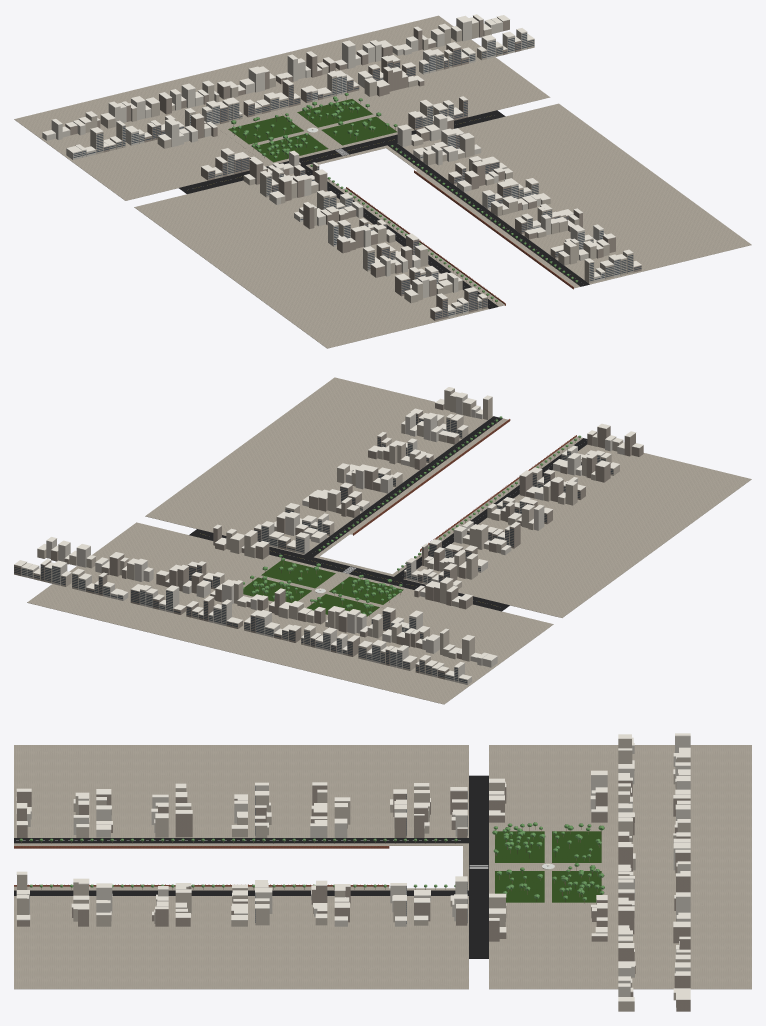
The model's file is constitucion_entorno.glb.
3 views of the same model, one above another, from view 1: azimuth 30°, elevation 25°; view 2: azimuth 150°, elevation 25°; view 3: azimuth 270°, elevation 25° (orthographic). The views are drawn at different scales.
Parts seen in each view (by area): view 1: Entorno_Calles_Plaza, Entorno_Manzanas; view 2: Entorno_Calles_Plaza, Entorno_Manzanas; view 3: Entorno_Calles_Plaza, Entorno_Manzanas.
Part boxes in pixels (box(x1,y1,x2,y2)): Entorno_Calles_Plaza: box(14, 15, 751, 348); Entorno_Manzanas: box(42, 14, 641, 320); Entorno_Calles_Plaza: box(27, 377, 751, 704); Entorno_Manzanas: box(14, 387, 643, 684); Entorno_Calles_Plaza: box(14, 745, 751, 989); Entorno_Manzanas: box(16, 733, 690, 1011).
Bounding box in the file's own units: 874 × 41.77 × 1022.
14 materials, 7 textured.
